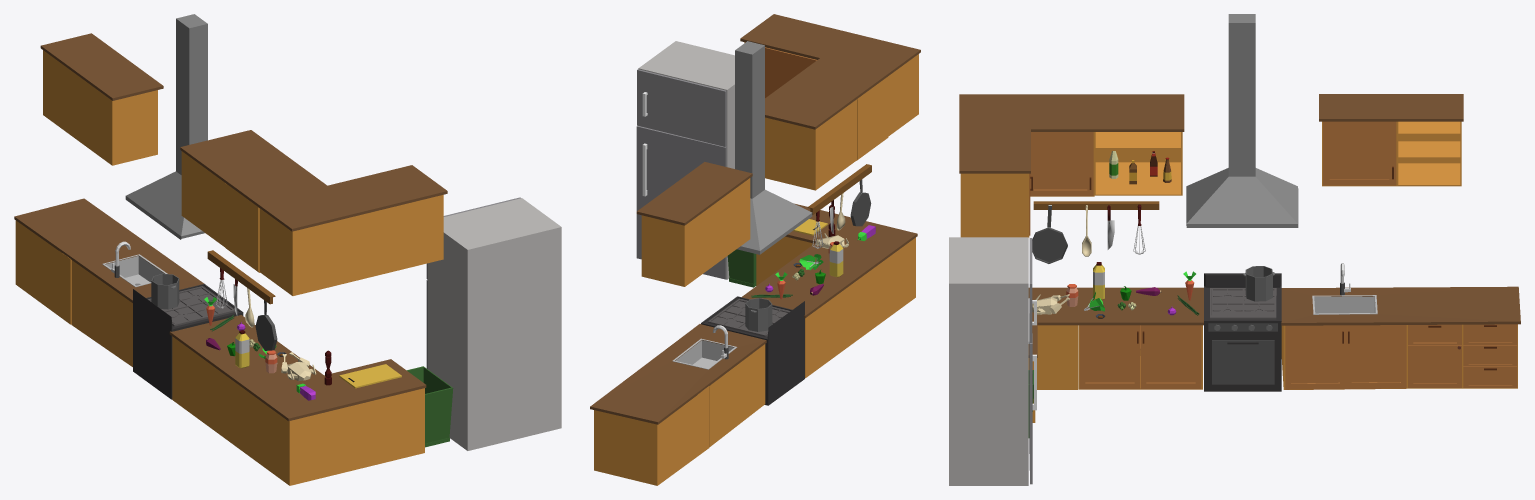
Rendered from KITCHENwIngredients.fbx.
3 views of the same model, side by side, from view 1: azimuth 30°, elevation 25°; view 2: azimuth 150°, elevation 25°; view 3: azimuth 270°, elevation 25° (orthographic). The views are drawn at different scales.
Visible parts, largest first — view 1: Whisk.051, Whisk.068, Chicken.014; view 2: Whisk.051, Whisk.068, Oil.002; view 3: Whisk.051, Whisk.068.
Boxes of the visible parts, x1=… form: Whisk.051: x1=14, y1=14, x2=561, y2=485; Whisk.068: x1=151, y1=273, x2=179, y2=309; Chicken.014: x1=281, y1=352, x2=316, y2=381; Whisk.051: x1=590, y1=14, x2=920, y2=485; Whisk.068: x1=745, y1=298, x2=772, y2=331; Oil.002: x1=829, y1=241, x2=843, y2=277; Whisk.051: x1=949, y1=14, x2=1520, y2=485; Whisk.068: x1=1243, y1=266, x2=1274, y2=301.
Size of the model in its own units: 1426 by 1825 by 2646.
